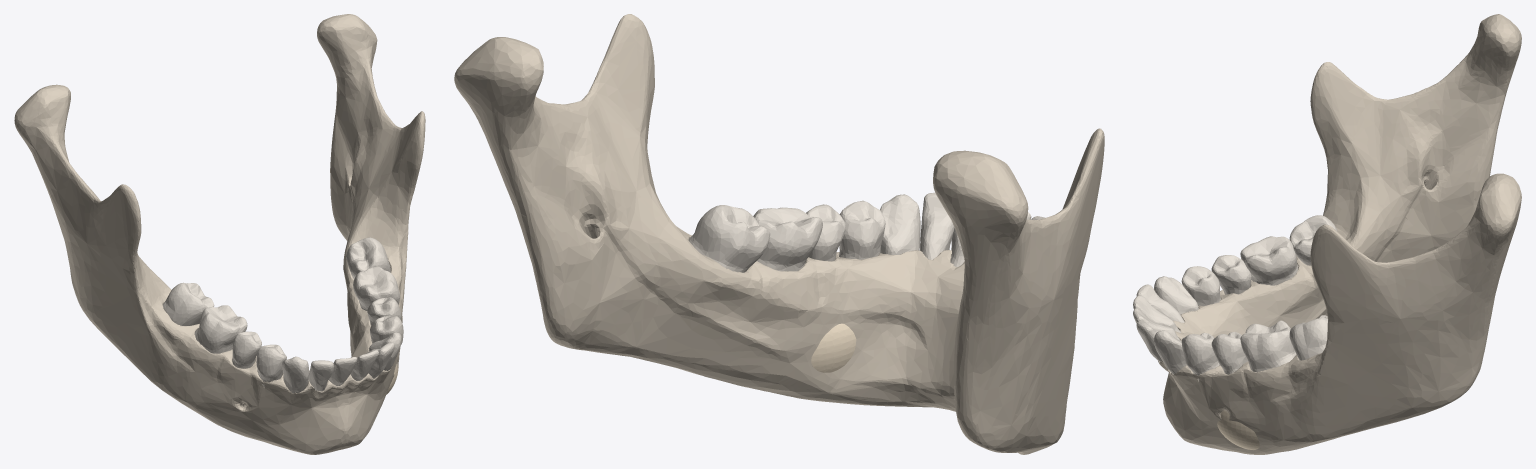
Rendered from okc-case.glb.
3 renders of one model, left to right at view 1: azimuth 30°, elevation 25°; view 2: azimuth 150°, elevation 25°; view 3: azimuth 270°, elevation 25°, orthographic. The views are drawn at different scales.
Parts seen in each view (by area): view 1: bone, teeth; view 2: bone, teeth, prf; view 3: bone, teeth, prf.
Boxes of the visible parts, x1=… form: bone: x1=14, y1=14, x2=425, y2=454; teeth: x1=162, y1=237, x2=403, y2=393; bone: x1=454, y1=14, x2=1104, y2=454; teeth: x1=688, y1=192, x2=1045, y2=272; prf: x1=811, y1=323, x2=856, y2=372; bone: x1=1158, y1=14, x2=1521, y2=454; teeth: x1=1133, y1=215, x2=1337, y2=380; prf: x1=1217, y1=410, x2=1259, y2=449.
Bounding box in the file's own units: 0.103 × 0.0817 × 0.0866.
